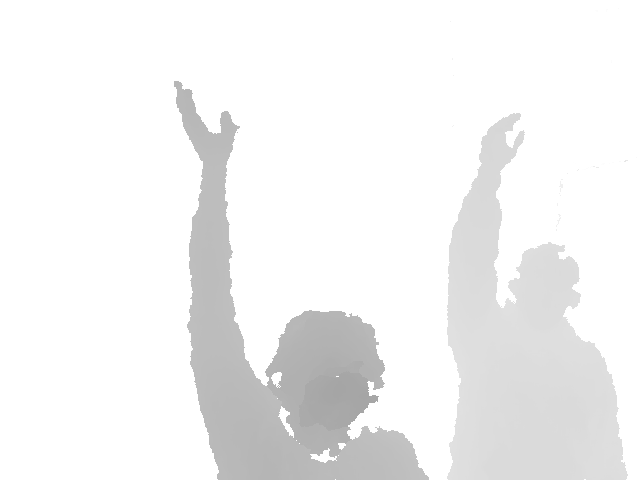hand: (173, 79, 240, 178), (478, 111, 524, 173)
head: (264, 309, 384, 455), (509, 242, 580, 327)
person: (173, 80, 432, 480), (445, 110, 630, 480)
